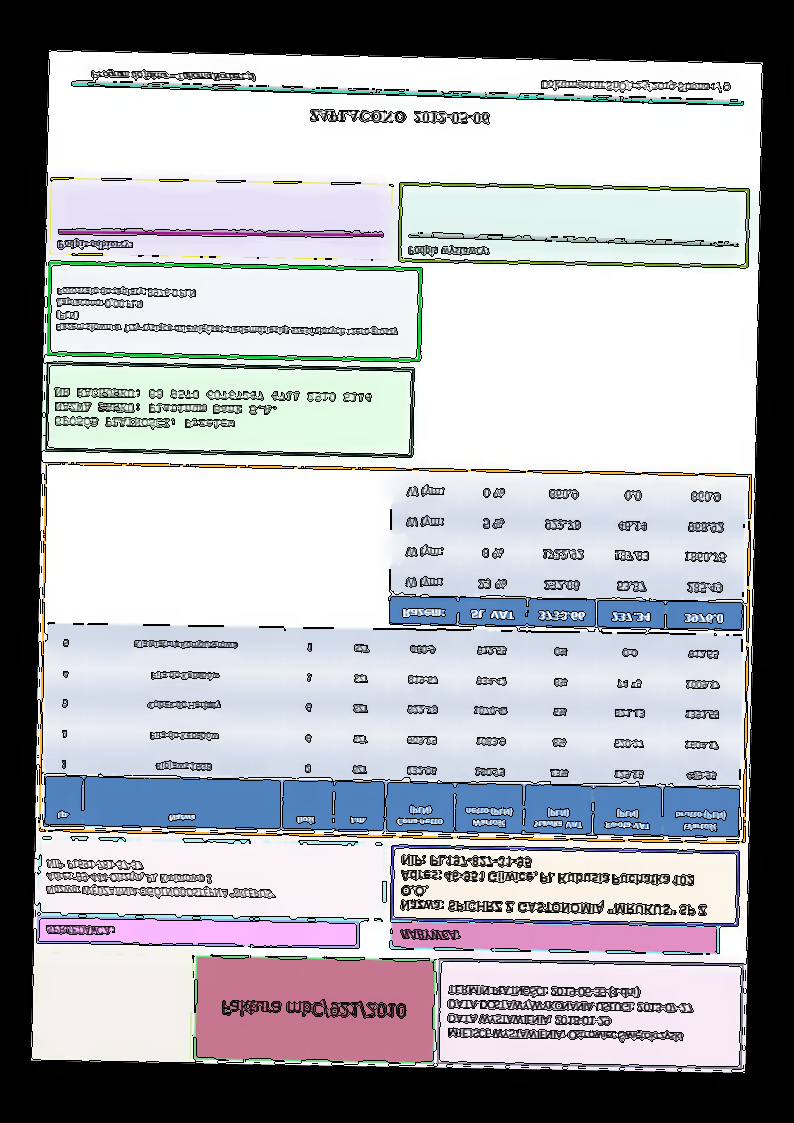Table: (41, 620, 745, 840), (388, 473, 749, 631)
TextBox: (395, 849, 711, 921), (53, 282, 402, 341), (52, 381, 374, 437), (443, 980, 697, 1046), (43, 855, 281, 906), (212, 993, 409, 1028), (537, 73, 733, 97), (307, 104, 495, 128), (88, 67, 261, 89), (54, 235, 135, 256), (404, 241, 493, 260), (397, 924, 462, 947), (40, 921, 115, 940)
